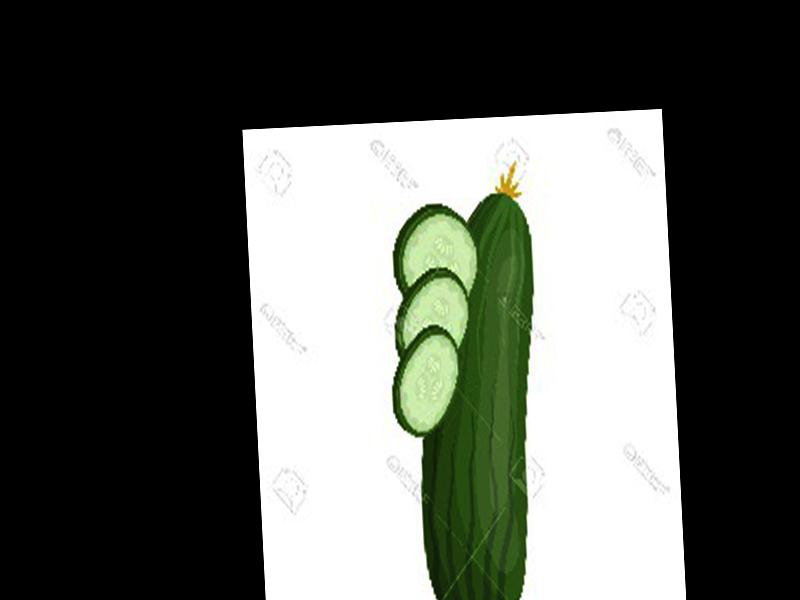Cucumber: (405, 165, 550, 600)
